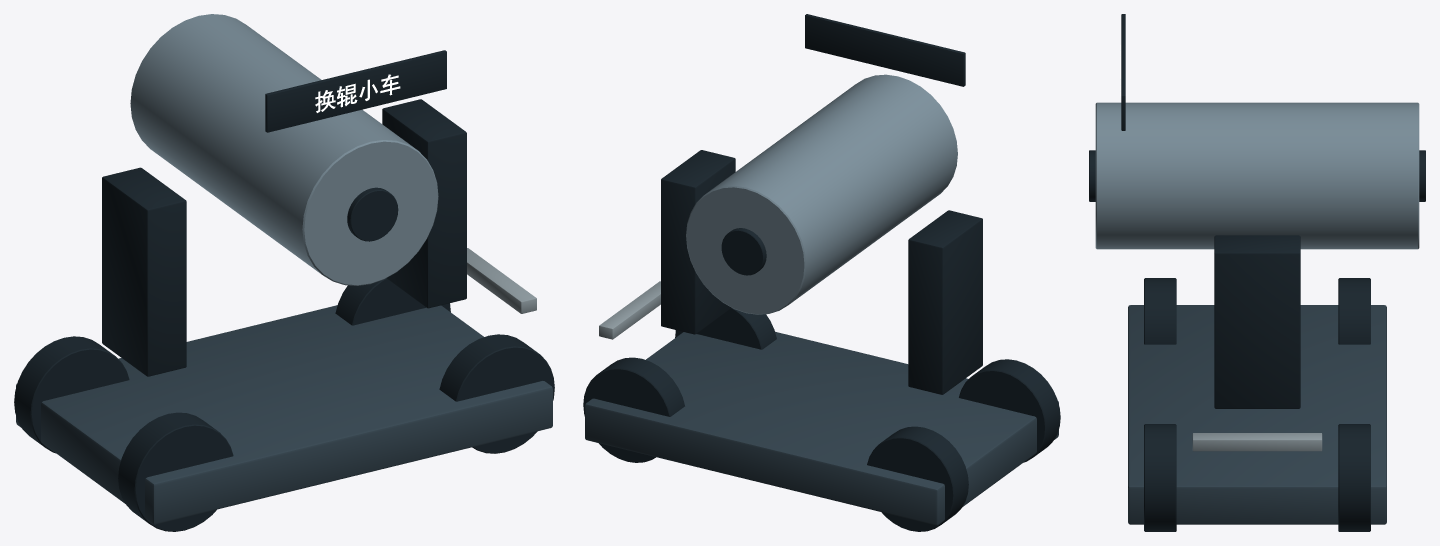
File: roll_cart.glb
The picture shows the model from 3 angles, left to right: view 1: azimuth 30°, elevation 25°; view 2: azimuth 150°, elevation 25°; view 3: azimuth 270°, elevation 25°; orthographic projection. The views are drawn at different scales.
Visible parts, largest first — view 1: Asset_roll_cart; view 2: Asset_roll_cart; view 3: Asset_roll_cart.
Boxes of the visible parts, x1,y1,x2,y2 form: Asset_roll_cart: (14,14,554,531); Asset_roll_cart: (583,14,1060,531); Asset_roll_cart: (1089,14,1425,531).
Size of the model in its own units: 2.14 by 2.04 by 1.56.
